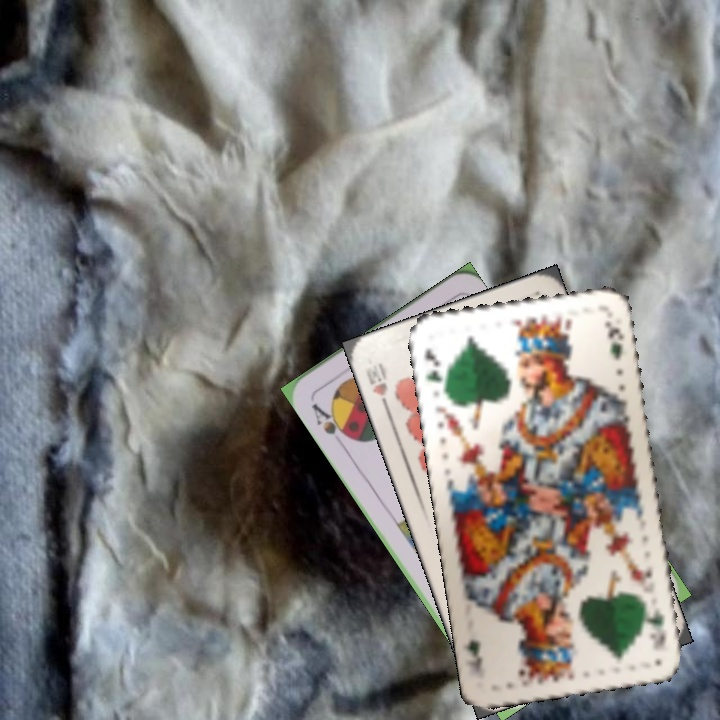GK: (419, 344, 450, 395), (643, 598, 669, 651)
H10: (361, 358, 393, 415)
SA: (307, 399, 354, 442)
